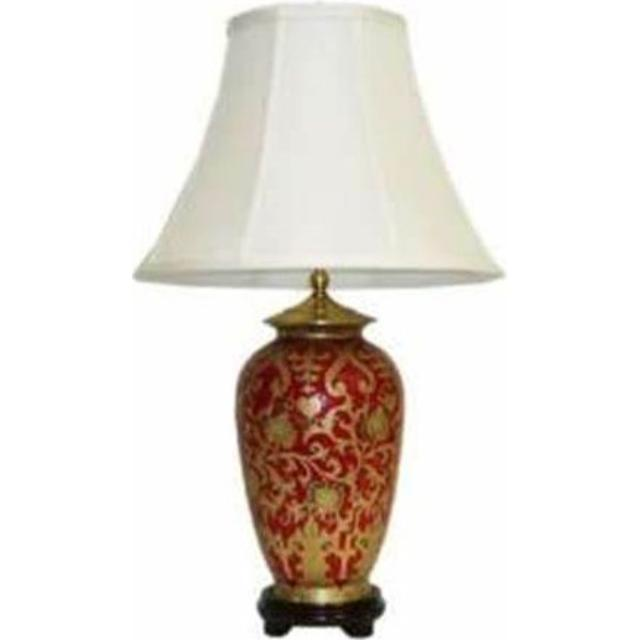lamp: (136, 4, 507, 640)
